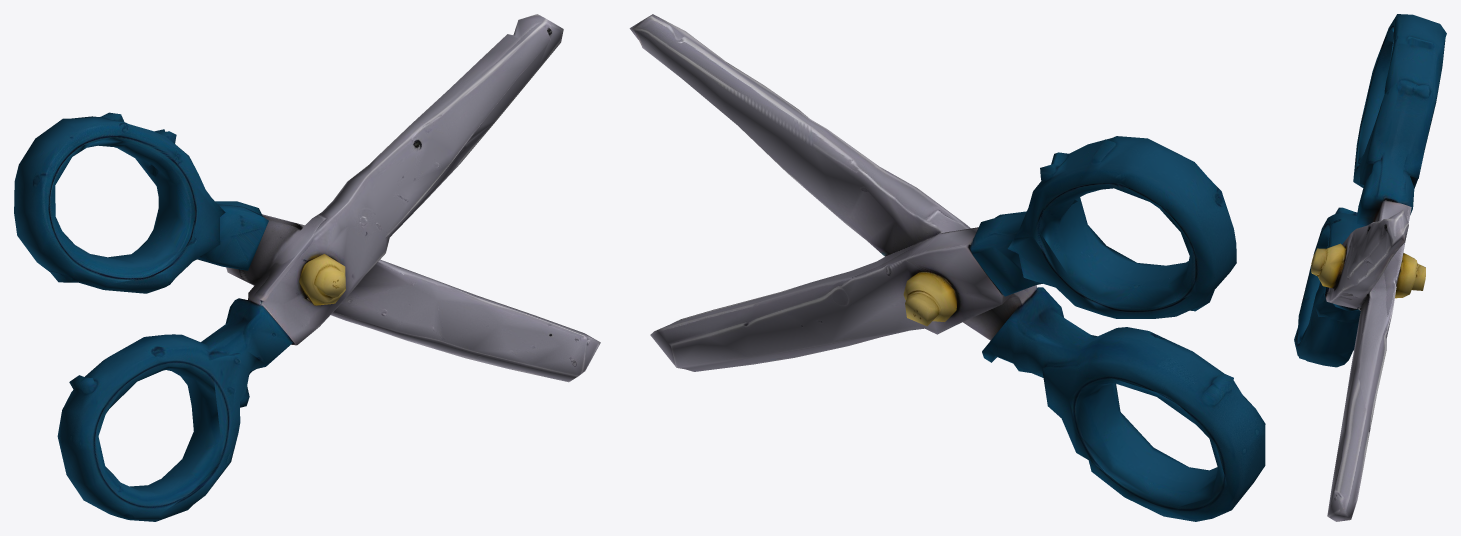
Rendered from weapon_scissors_1500.glb.
The picture shows the model from 3 angles, left to right: view 1: azimuth 30°, elevation 25°; view 2: azimuth 150°, elevation 25°; view 3: azimuth 270°, elevation 25°; orthographic projection. The views are drawn at different scales.
Parts seen in each view (by area): view 1: tripo_node_d8a4ceb7-b36d-40e6-a91f-7a586e601210; view 2: tripo_node_d8a4ceb7-b36d-40e6-a91f-7a586e601210; view 3: tripo_node_d8a4ceb7-b36d-40e6-a91f-7a586e601210.
Boxes of the visible parts, x1,y1,x2,y2 form: tripo_node_d8a4ceb7-b36d-40e6-a91f-7a586e601210: [14, 14, 600, 521]; tripo_node_d8a4ceb7-b36d-40e6-a91f-7a586e601210: [629, 14, 1265, 521]; tripo_node_d8a4ceb7-b36d-40e6-a91f-7a586e601210: [1294, 14, 1446, 521].
Bounding box in the file's own units: 0.9813 × 0.6338 × 0.2633.
1 material, 1 textured.
